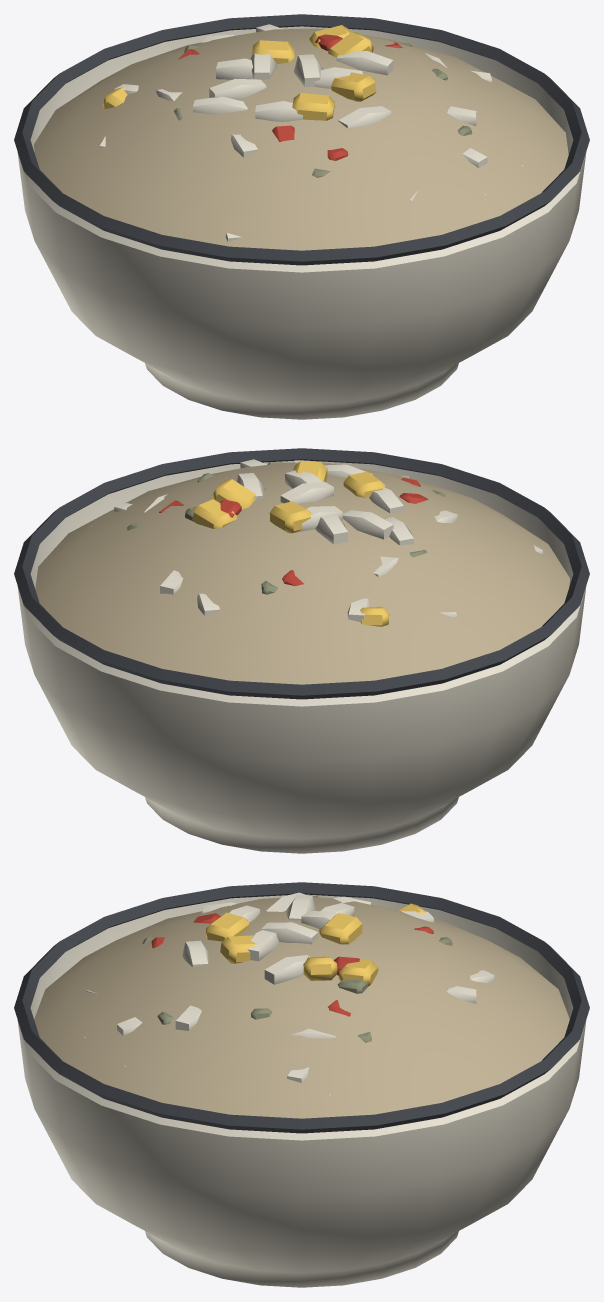
File: cook_fried_rice.glb
3 renders of one model, top to bottom at view 1: azimuth 30°, elevation 25°; view 2: azimuth 150°, elevation 25°; view 3: azimuth 270°, elevation 25°, orthographic.
Visible parts, largest first — view 1: body; view 2: body; view 3: body.
Boxes of the visible parts, x1,y1,x2,y2 form: body: (14,14,589,419); body: (14,448,589,853); body: (14,882,589,1287).
Size of the model in its own units: 0.0628 by 0.0355 by 0.0628.
